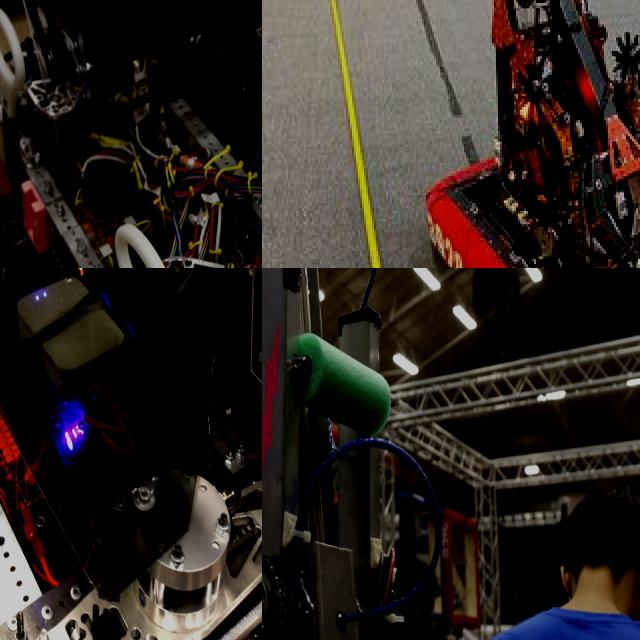FRC-Robots: (0, 268, 262, 640), (262, 268, 470, 640), (375, 0, 640, 268), (0, 0, 262, 268)
